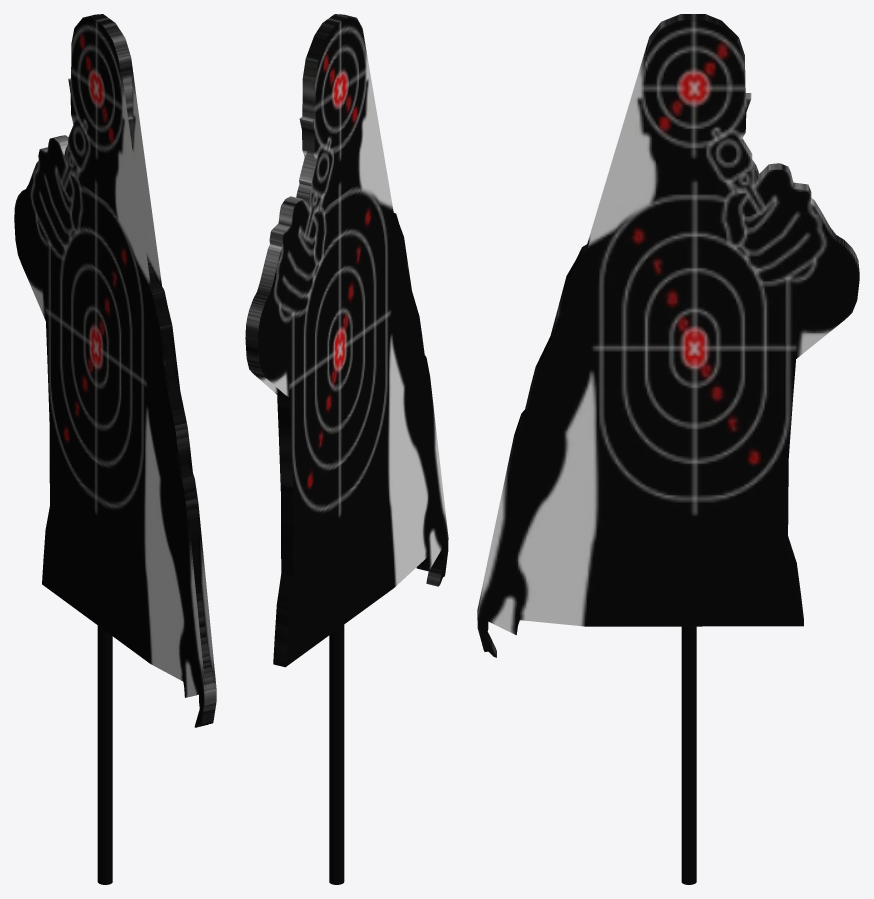
The model's file is targetEnemy.fbx.
The picture shows the model from 3 angles, left to right: view 1: azimuth 30°, elevation 25°; view 2: azimuth 150°, elevation 25°; view 3: azimuth 270°, elevation 25°; orthographic projection.
Visible parts, largest first — view 1: Cube, Cylinder; view 2: Cube, Cylinder; view 3: Cube, Cylinder.
Part boxes in pixels (bbox=[...]): Cube: bbox=[14, 14, 216, 727]; Cylinder: bbox=[97, 611, 112, 884]; Cube: bbox=[245, 14, 448, 667]; Cylinder: bbox=[329, 610, 344, 884]; Cube: bbox=[477, 14, 859, 657]; Cylinder: bbox=[681, 611, 696, 884].
Size of the model in its own units: 20 by 1267 by 508.
Materials: 2 (1 with a texture image).
